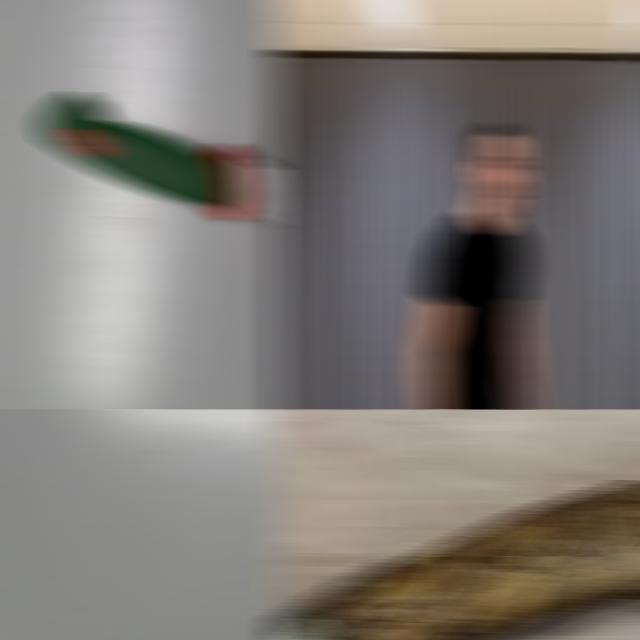Knife: (39, 90, 282, 227)
